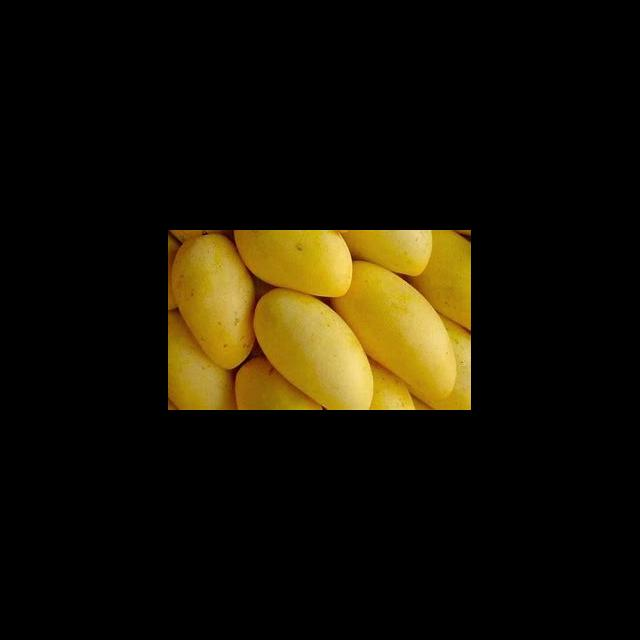mango: (326, 261, 456, 405), (252, 288, 376, 410), (170, 234, 258, 371), (232, 230, 352, 298), (168, 308, 242, 410), (402, 230, 472, 332), (236, 349, 326, 410), (338, 230, 434, 277)
